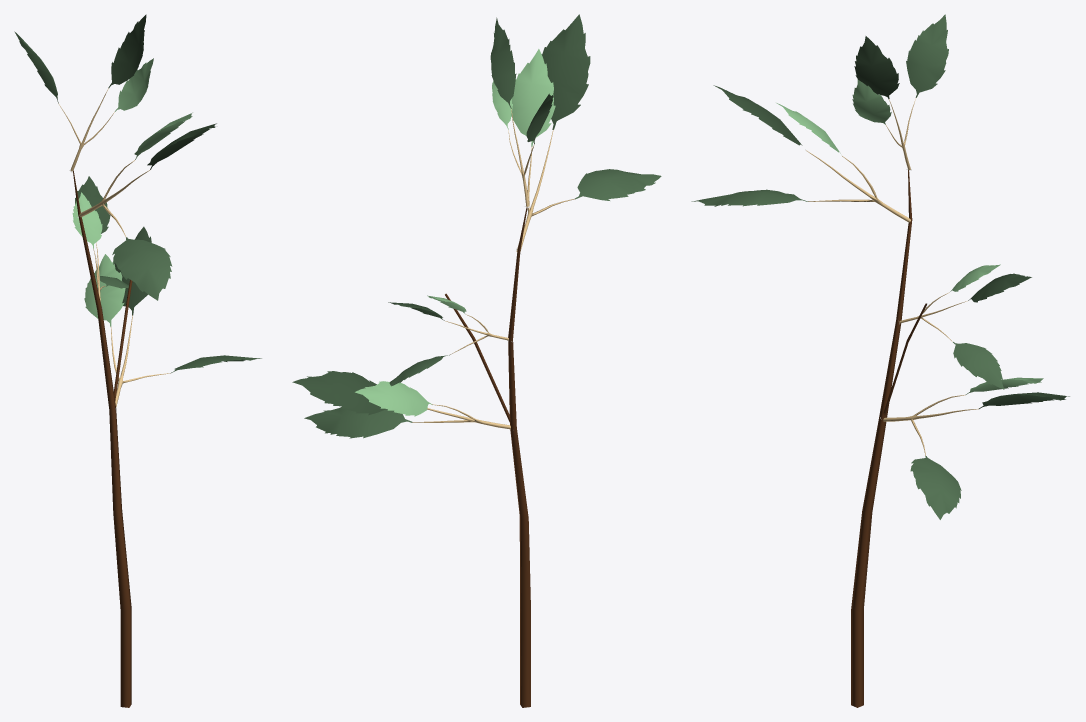
The model's file is Tree4.fbx.
3 renders of one model, left to right at view 1: azimuth 30°, elevation 25°; view 2: azimuth 150°, elevation 25°; view 3: azimuth 270°, elevation 25°, orthographic.
Parts seen in each view (by area): view 1: Árbol.002, Hojas|tree|Dupli|, Hojas|tree|Dupli|1, Hojas|tree|Dupli|2, Hojas|tree|Dupli|3; view 2: Hojas|tree|Dupli|, Hojas|tree|Dupli|2, Árbol.002, Hojas|tree|Dupli|1, Hojas|tree|Dupli|3; view 3: Hojas|tree|Dupli|1, Árbol.002, Hojas|tree|Dupli|2, Hojas|tree|Dupli|, Hojas|tree|Dupli|3.
Boxes of the visible parts, left/top/right/bottom form: Árbol.002: left=73, top=170, right=132, bottom=707; Hojas|tree|Dupli|: left=79, top=112, right=216, bottom=300; Hojas|tree|Dupli|1: left=14, top=14, right=153, bottom=171; Hojas|tree|Dupli|2: left=84, top=226, right=261, bottom=407; Hojas|tree|Dupli|3: left=72, top=176, right=128, bottom=302; Hojas|tree|Dupli|: left=511, top=14, right=661, bottom=251; Hojas|tree|Dupli|2: left=292, top=371, right=510, bottom=438; Árbol.002: left=445, top=207, right=530, bottom=707; Hojas|tree|Dupli|1: left=490, top=17, right=553, bottom=206; Hojas|tree|Dupli|3: left=388, top=295, right=508, bottom=386; Hojas|tree|Dupli|1: left=852, top=14, right=948, bottom=170; Árbol.002: left=851, top=170, right=926, bottom=707; Hojas|tree|Dupli|2: left=883, top=377, right=1069, bottom=519; Hojas|tree|Dupli|: left=691, top=85, right=910, bottom=222; Hojas|tree|Dupli|3: left=899, top=264, right=1031, bottom=389.
Bounding box in the file's own units: 89.73 × 237 × 120.
